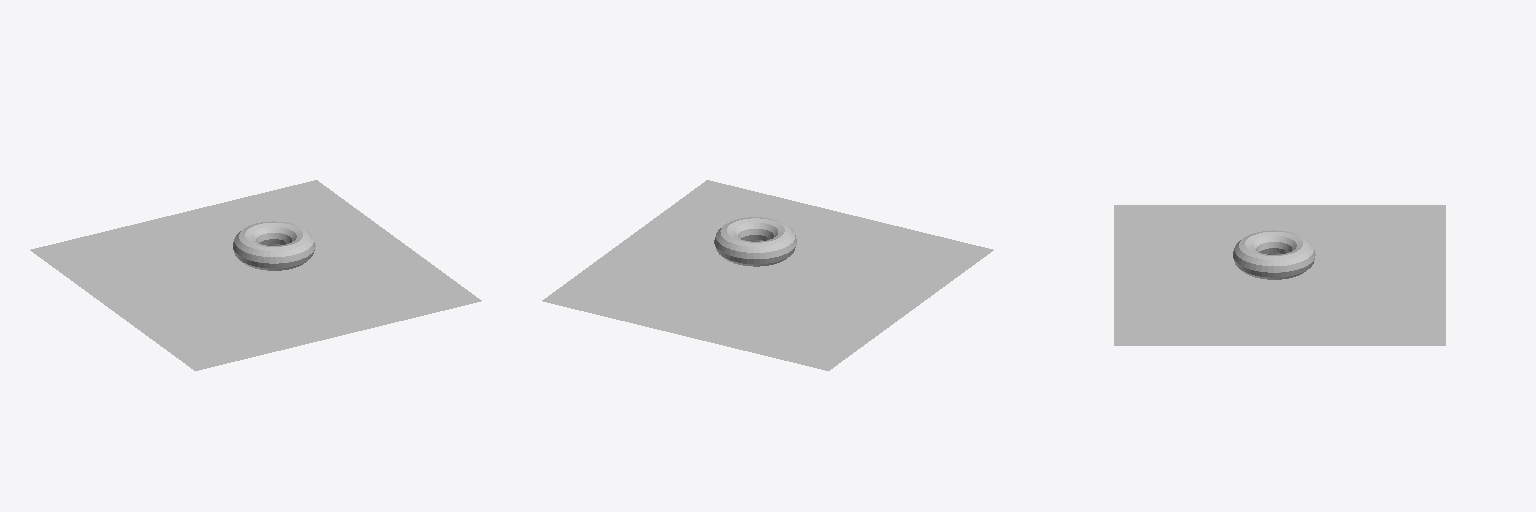
Rendered from donut-new.obj.
The picture shows the model from 3 angles: view 1: azimuth 30°, elevation 25°; view 2: azimuth 150°, elevation 25°; view 3: azimuth 270°, elevation 25°; orthographic projection.
Visible parts, largest first — view 1: Torus.001; view 2: Torus.001; view 3: Torus.001.
Part boxes in pixels (left/top/right/bottom): Torus.001: left=30, top=180, right=481, bottom=370; Torus.001: left=542, top=180, right=993, bottom=370; Torus.001: left=1114, top=205, right=1445, bottom=345.
Size of the model in its own units: 11.43 by 1.49 by 11.43.